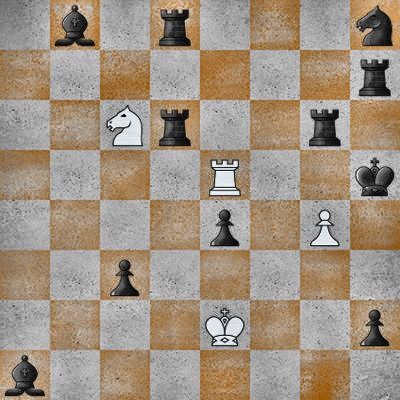black-bishop: (50, 0, 100, 50), (0, 350, 50, 400)
black-king: (350, 150, 400, 200)
black-knight: (350, 0, 400, 50)
black-pawn: (200, 200, 250, 250), (100, 250, 150, 300), (350, 300, 400, 350)
black-rook: (150, 0, 200, 50), (350, 50, 400, 100), (150, 100, 200, 150), (300, 100, 350, 150)
white-king: (200, 300, 250, 350)
white-knight: (100, 100, 150, 150)
white-pawn: (300, 200, 350, 250)
white-rook: (200, 150, 250, 200)
